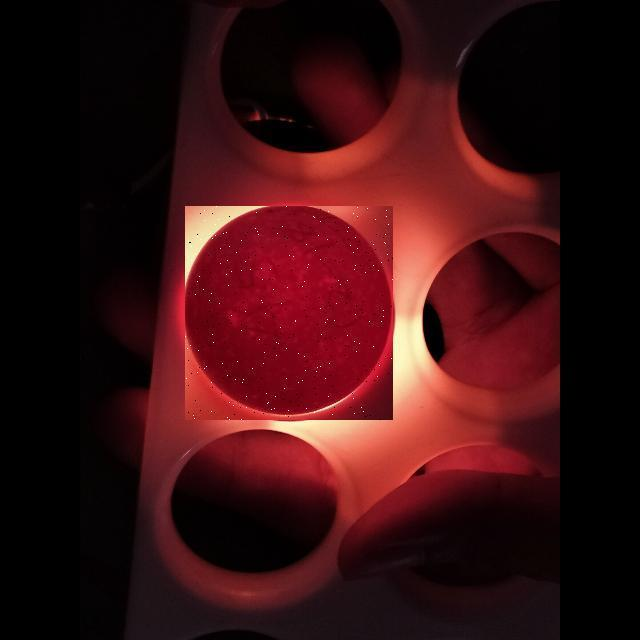AA - Premium: (184, 207, 392, 420)
